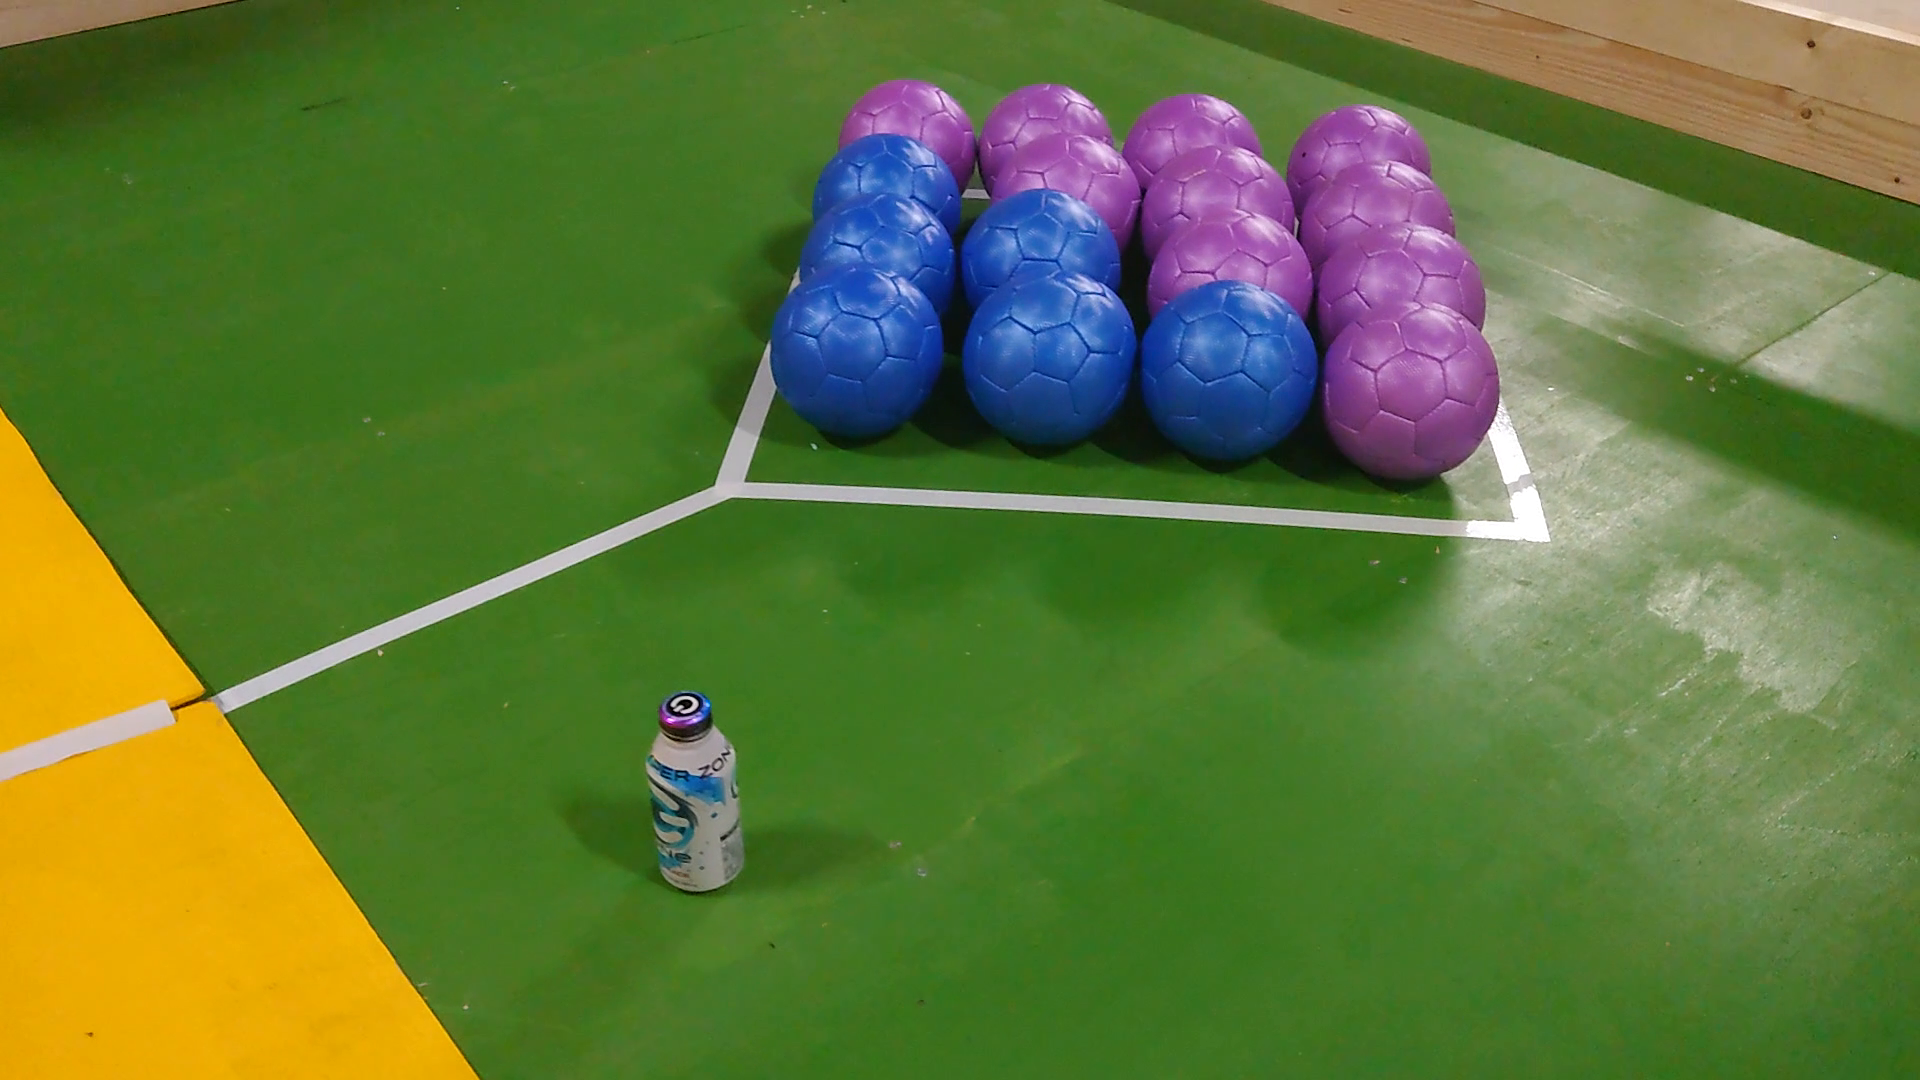blue: (1137, 277, 1319, 471), (960, 268, 1146, 454), (767, 255, 947, 444), (960, 190, 1130, 294), (800, 186, 953, 290), (810, 131, 963, 219)
purple: (1323, 297, 1502, 483), (1143, 206, 1316, 320), (1316, 222, 1489, 334), (1143, 144, 1294, 241), (993, 128, 1137, 228), (836, 78, 976, 179), (1300, 160, 1460, 248), (1287, 104, 1437, 190), (980, 82, 1113, 173), (1124, 91, 1263, 170)
